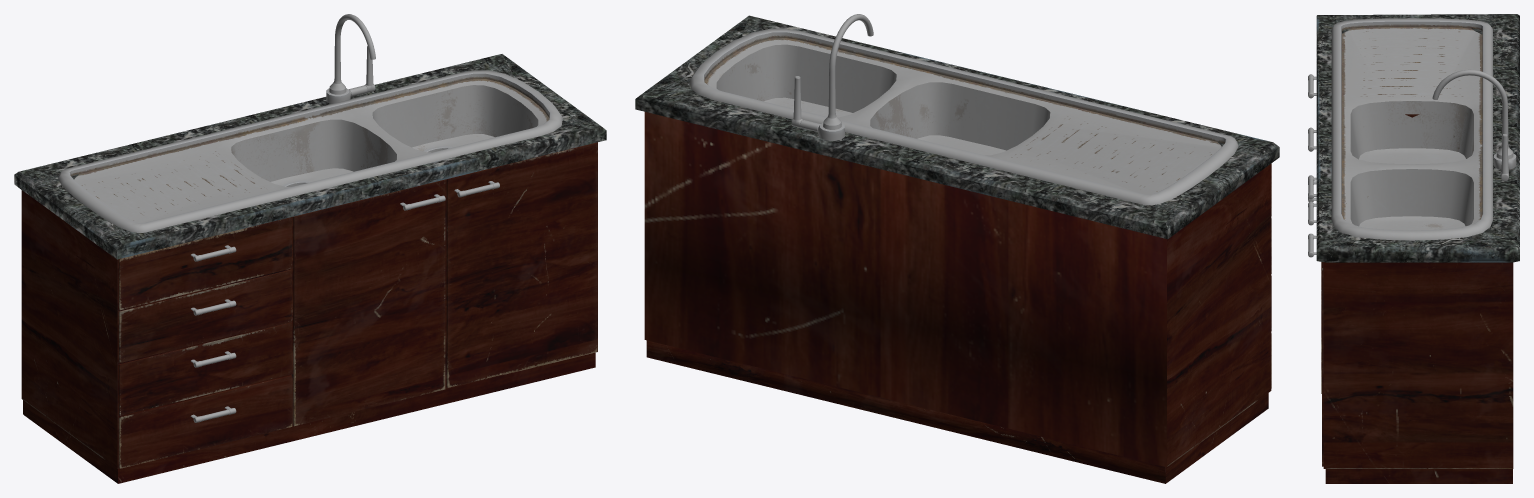
File: Prop_WashBasin.fbx
3 renders of one model, left to right at view 1: azimuth 30°, elevation 25°; view 2: azimuth 150°, elevation 25°; view 3: azimuth 270°, elevation 25°, orthographic. The views are drawn at different scales.
Parts seen in each view (by area): view 1: Prop_WashBasin; view 2: Prop_WashBasin; view 3: Prop_WashBasin.
Boxes of the visible parts, x1,y1,x2,y2 form: Prop_WashBasin: (14,14,606,483); Prop_WashBasin: (635,14,1279,483); Prop_WashBasin: (1308,14,1519,483).
Size of the model in its own units: 95.54 by 62.98 by 36.25.
